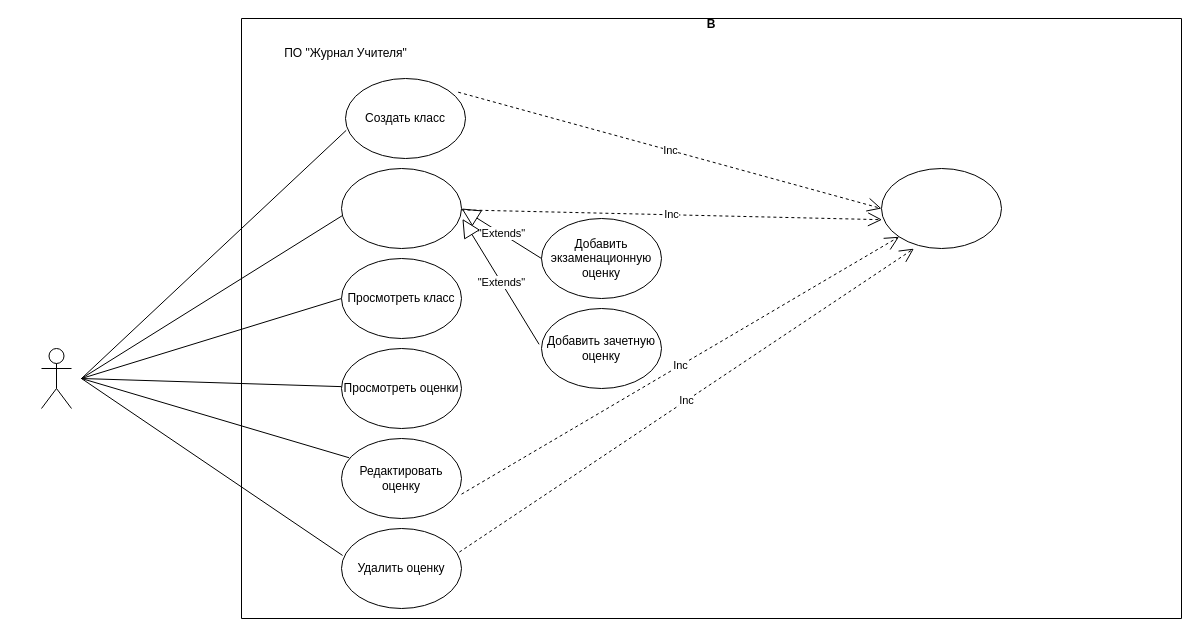
Image size: 1199x636. Some labels were removed from this diagram. Each missing label, with the box of its shape:
Ввод: (880, 168, 1002, 248)
Добавить оценку: (340, 168, 462, 248)
Пользователь: (40, 348, 72, 408)
